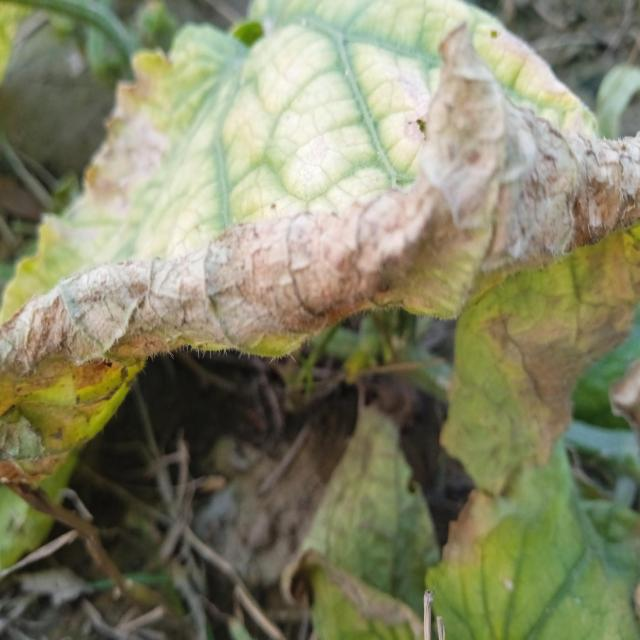cucumber_gummy: (0, 0, 640, 496)
